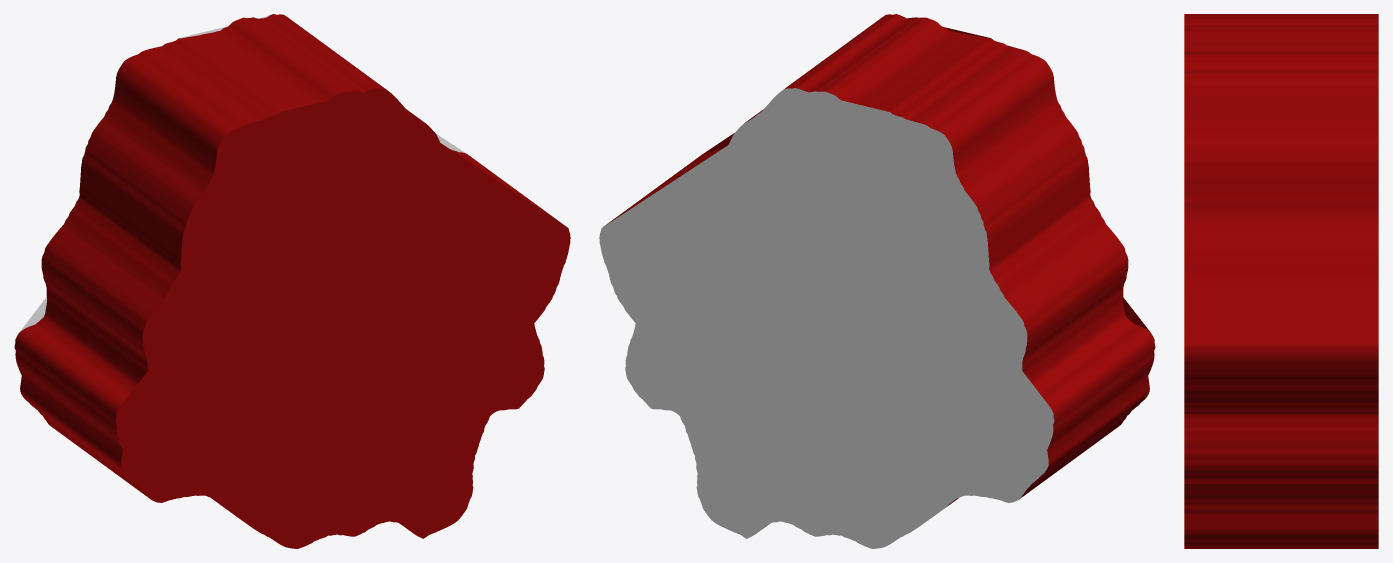
The model's file is island.fbx.
3 renders of one model, left to right at view 1: azimuth 30°, elevation 25°; view 2: azimuth 150°, elevation 25°; view 3: azimuth 270°, elevation 25°, orthographic. The views are drawn at different scales.
Visible parts, largest first — view 1: Model; view 2: Model; view 3: Model.
Part boxes in pixels (x1,y1,x2,y2): Model: (14,14,570,548); Model: (599,14,1155,548); Model: (1184,14,1378,548).
Bounding box in the file's own units: 109 × 106 × 41.74.
